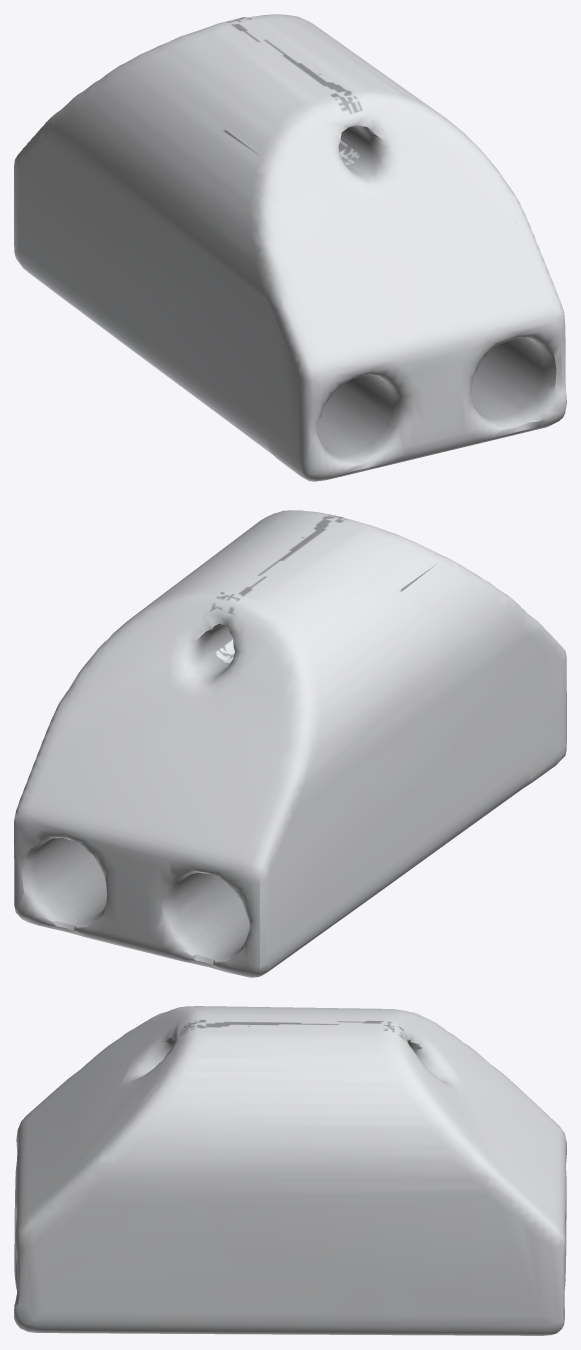
Rendered from left_finger2_middle.obj.
3 renders of one model, top to bottom at view 1: azimuth 30°, elevation 25°; view 2: azimuth 150°, elevation 25°; view 3: azimuth 270°, elevation 25°, orthographic. The views are drawn at different scales.
Visible parts, largest first — view 1: left_finger2_middle; view 2: left_finger2_middle; view 3: left_finger2_middle.
Boxes of the visible parts, box(x1,y1,x2,y2) form: left_finger2_middle: box(14, 14, 566, 481); left_finger2_middle: box(14, 510, 566, 977); left_finger2_middle: box(14, 1006, 566, 1335).
Size of the model in its own units: 0.0118 by 0.0126 by 0.0239.
1 material, 1 textured.
